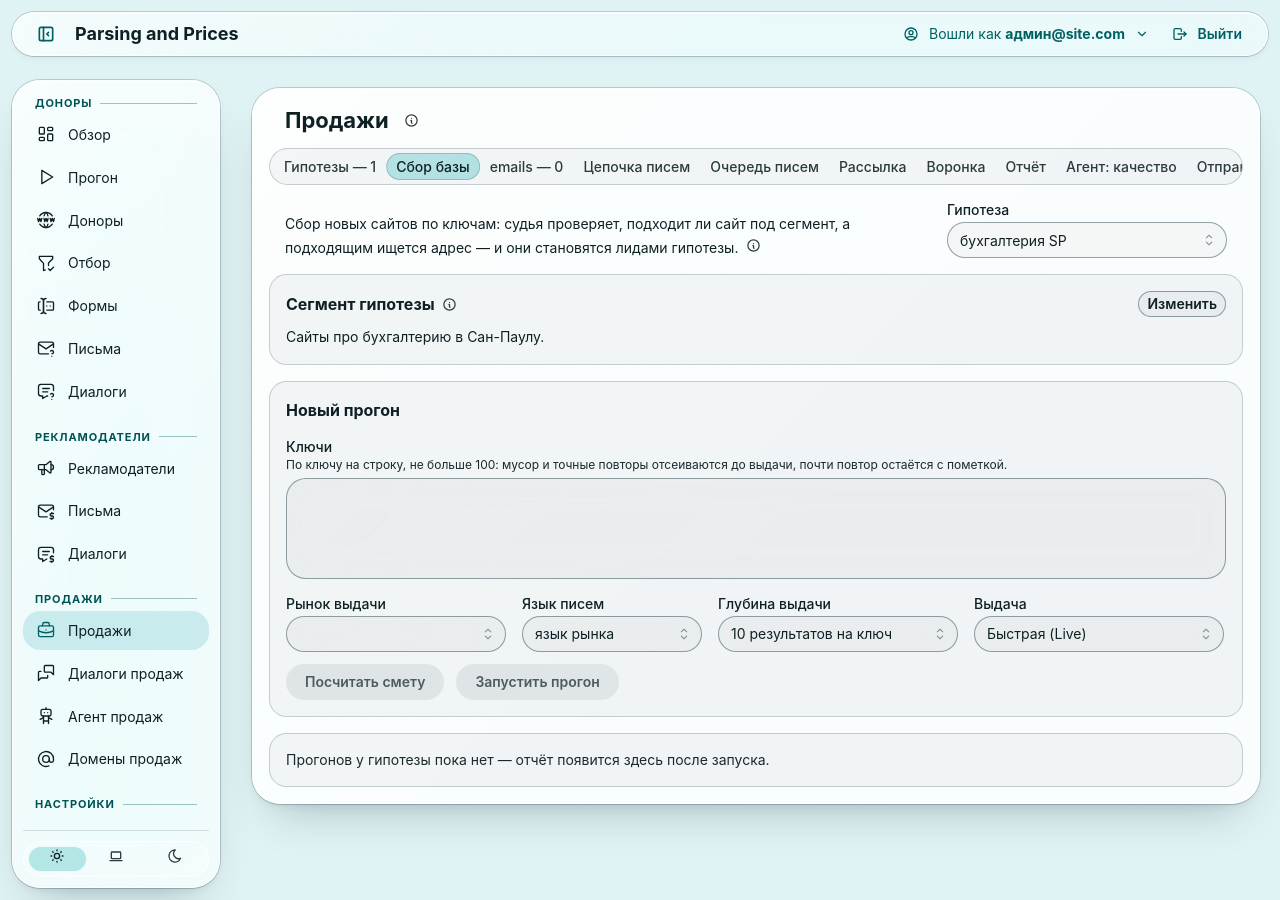
Test case: помощник описания: «Помочь с описанием» на «Сборе базы» › пустое поле — кнопка выключена и сказано почему
This screenshot has width=1280, height=900.
Expected: the heading "Сегмент гипотезы" is shown, [286, 292, 435, 316]
Click the button "Изменить".
click(1182, 304)  # box [1138, 291, 1226, 317]
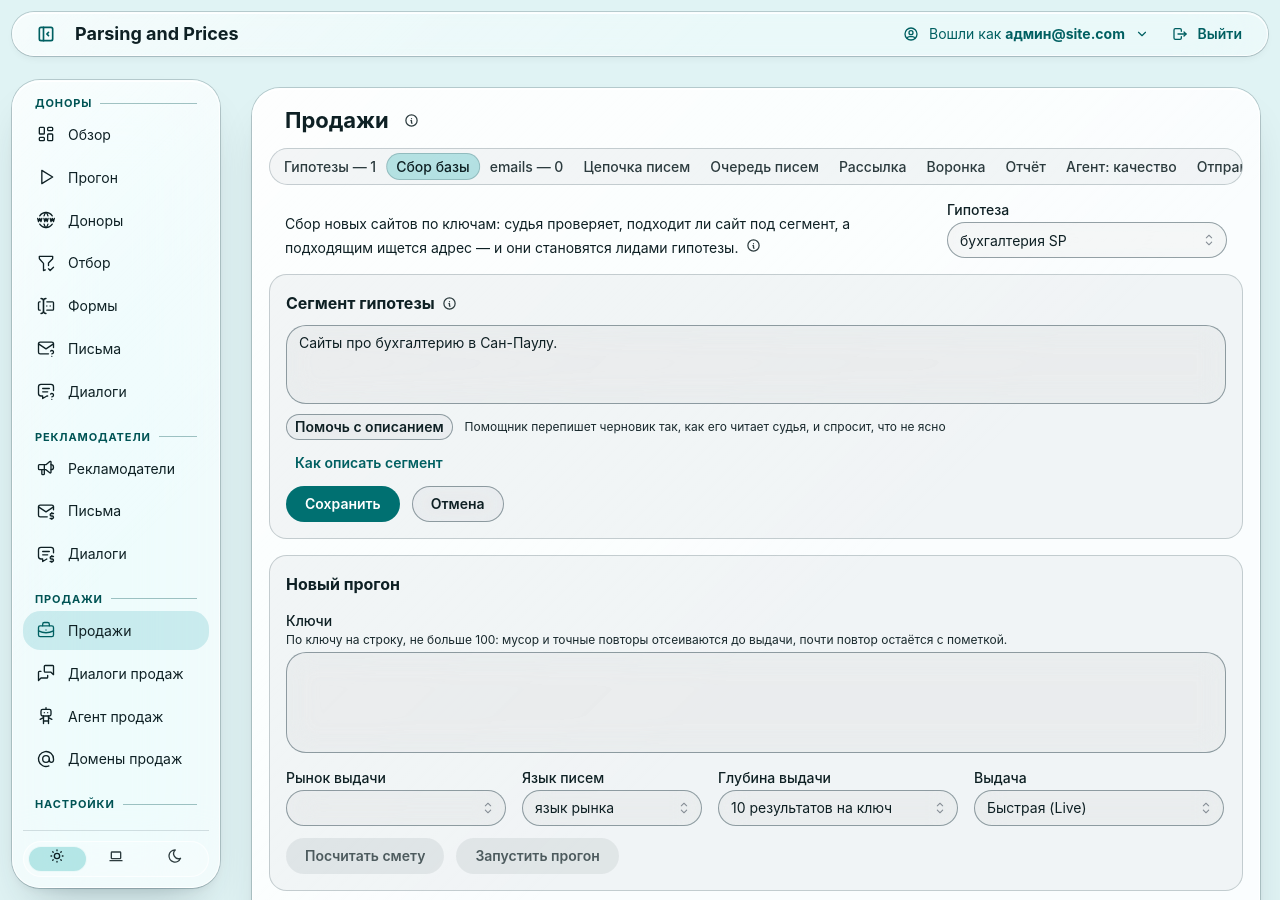
Clear the text box named "Описание сегмента" at point(756, 365), box [286, 325, 1226, 404]
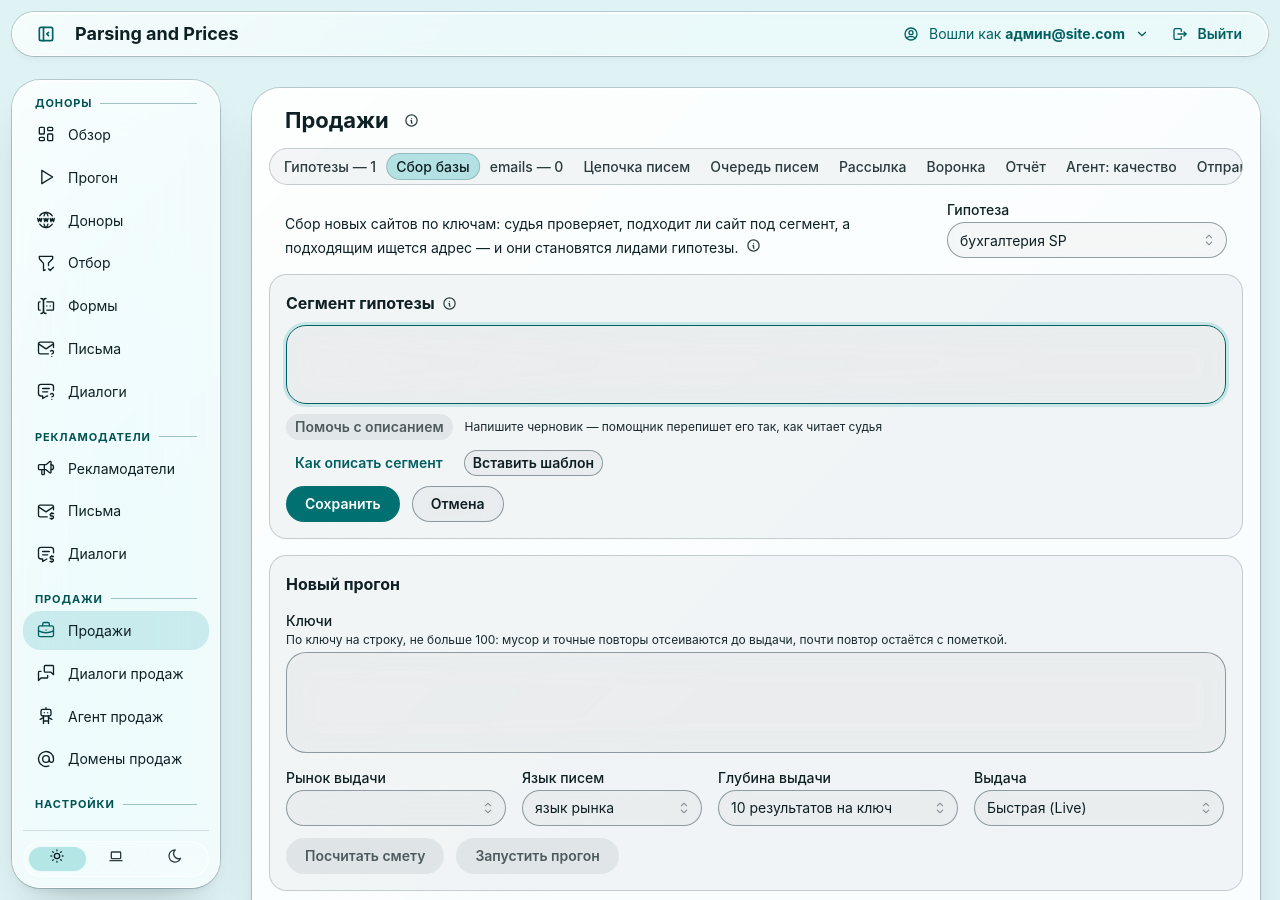
Result: the button "Помочь с описанием" is disabled at [286, 414, 453, 440]
Result: the text "Напишите черновик — помощник перепишет его так, как читает судья" is shown at [465, 419, 882, 436]
